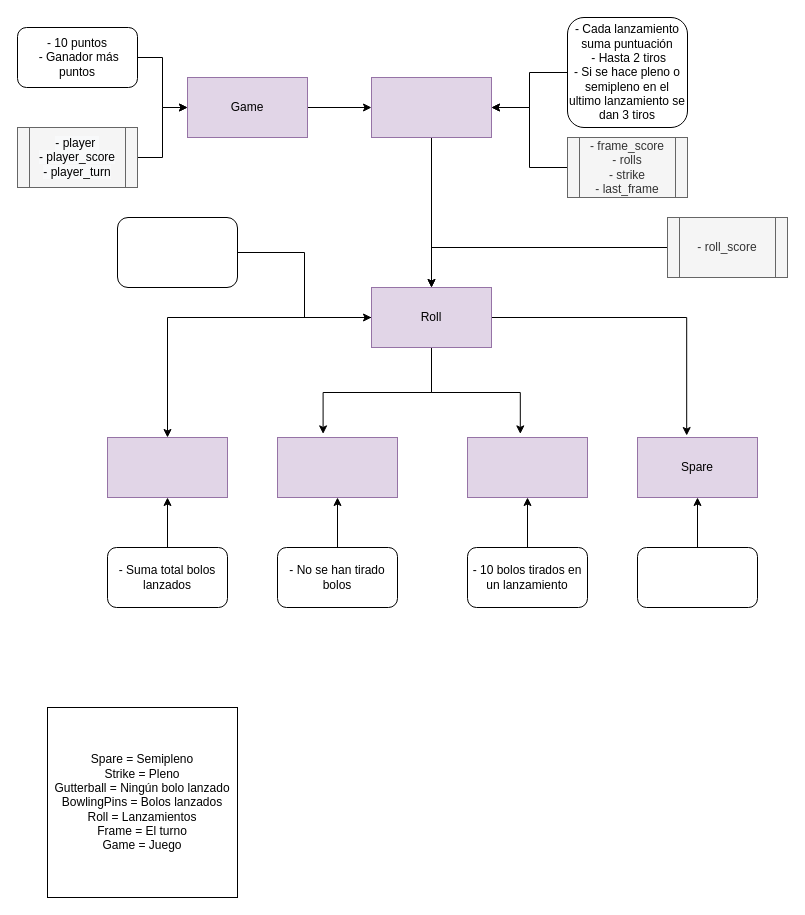
Image size: 805x915. Some labels were removed from this diagram. The box of each missing label's shape, as (x1, y1, x2, y2) in pixels:
- Se han tirado 10 bolos en dos lanzamientos: (636, 546, 758, 608)
- Solo se hace un segundo tiro si en el primer lanzamiento se consigue pleno: (116, 216, 238, 288)
BowlingPins: (106, 436, 228, 498)
Frame: (370, 76, 492, 138)
Gutterball: (276, 436, 398, 498)
Strike: (466, 436, 588, 498)
